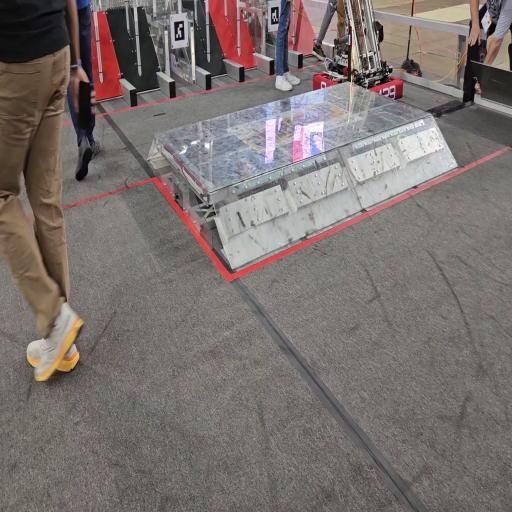robot: (322, 0, 403, 97)
